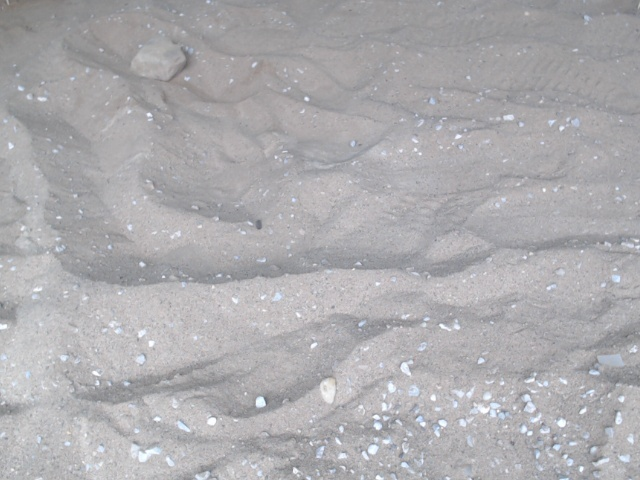rock: (124, 31, 193, 84)
